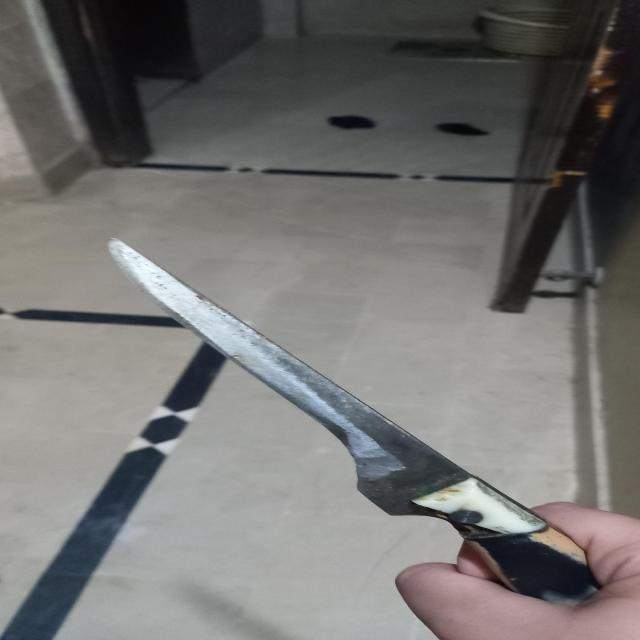faca: (105, 241, 603, 614)
